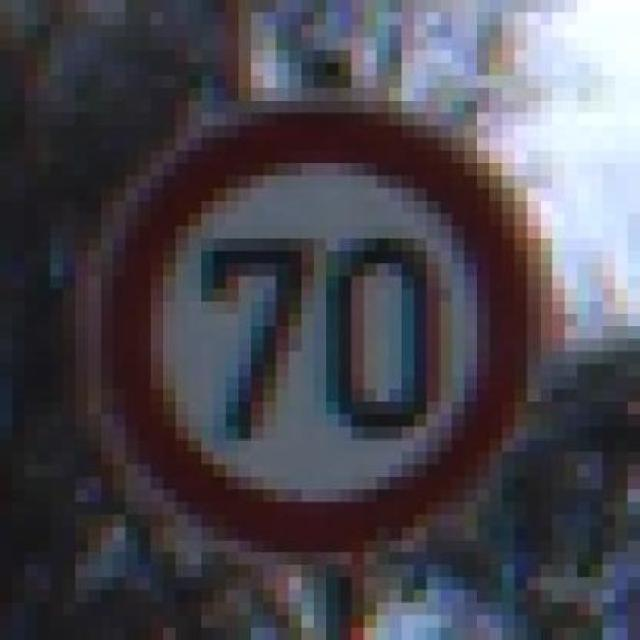forb_speed_over_70: (93, 94, 544, 552)
